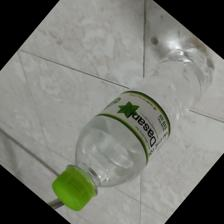Dasani: (50, 48, 214, 215)
